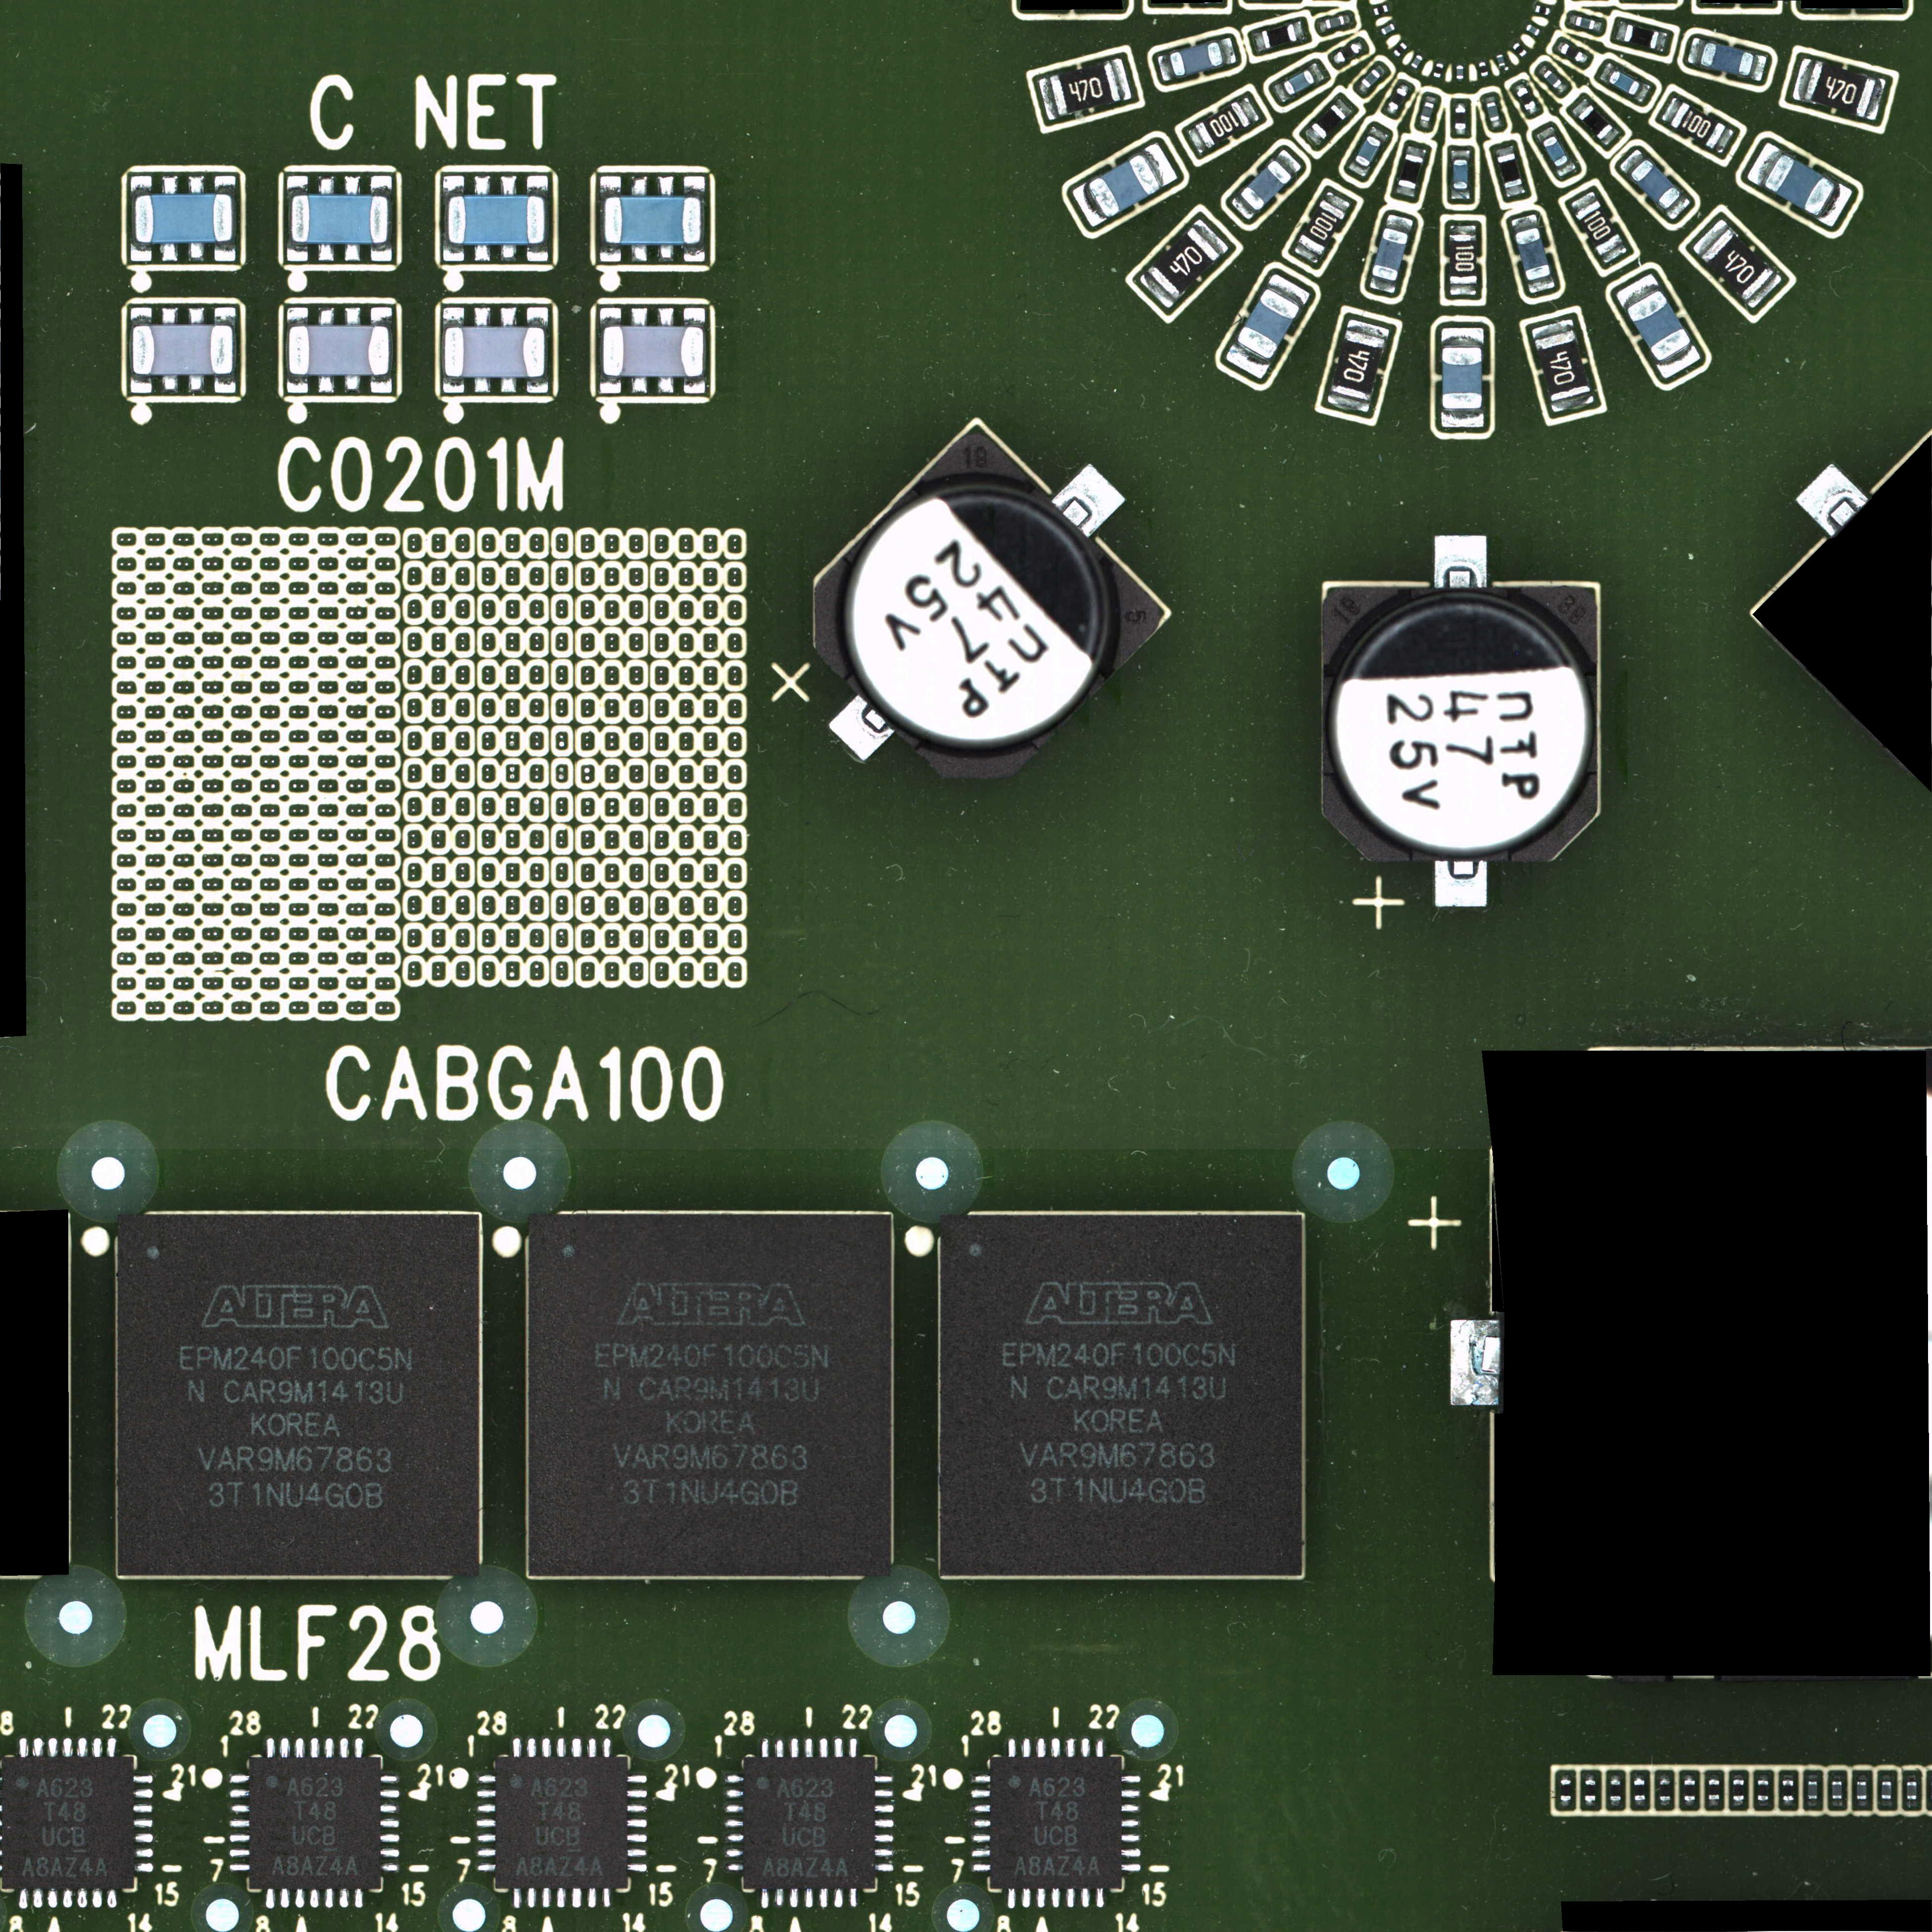Package: (777, 426, 1168, 807), (117, 1214, 483, 1575), (938, 1217, 1306, 1576), (529, 1215, 892, 1576), (1322, 587, 1603, 858), (2, 1757, 133, 1888), (495, 1757, 626, 1886), (249, 1759, 380, 1888), (745, 1759, 874, 1888), (991, 1759, 1120, 1886), (1700, 226, 1775, 301), (1760, 152, 1838, 219), (1148, 228, 1219, 301), (1086, 152, 1161, 219), (1626, 290, 1691, 364), (605, 327, 702, 375), (446, 327, 543, 375), (134, 326, 232, 373), (288, 327, 389, 373), (448, 196, 543, 244), (136, 195, 232, 242), (605, 196, 701, 244), (292, 196, 386, 244), (1237, 288, 1299, 359), (1534, 329, 1591, 403), (1805, 62, 1875, 119), (1330, 329, 1385, 402), (1051, 60, 1120, 117), (1629, 157, 1683, 211), (1240, 159, 1292, 212), (1575, 200, 1622, 257), (1196, 101, 1251, 149), (1670, 103, 1727, 149), (1442, 347, 1483, 410), (1299, 200, 1345, 255), (1371, 226, 1408, 281), (1514, 226, 1552, 280), (1169, 41, 1223, 76), (1702, 42, 1755, 76), (1449, 235, 1477, 285), (1578, 104, 1614, 142), (1311, 104, 1346, 140), (1398, 152, 1424, 189), (1541, 134, 1569, 168), (1495, 152, 1522, 188), (1353, 136, 1382, 168), (1283, 69, 1315, 96), (1624, 25, 1658, 50), (1261, 25, 1297, 48), (1610, 71, 1642, 96), (1387, 88, 1408, 111), (1338, 42, 1362, 62), (1516, 87, 1536, 110), (1560, 42, 1583, 62), (1454, 159, 1468, 189), (1361, 69, 1380, 88), (1543, 71, 1562, 88), (1419, 103, 1435, 122), (1454, 106, 1467, 127), (1575, 18, 1596, 30), (1757, 1780, 1769, 1801), (1560, 1780, 1571, 1801), (1585, 1780, 1596, 1801), (1610, 1780, 1621, 1801), (1635, 1780, 1645, 1801), (1660, 1780, 1670, 1801), (1684, 1780, 1695, 1801), (1709, 1780, 1720, 1801), (1734, 1780, 1744, 1801), (1783, 1780, 1794, 1801), (1327, 16, 1345, 28), (1486, 103, 1499, 120), (1833, 1782, 1842, 1801), (1808, 1782, 1817, 1799), (1858, 1782, 1867, 1799), (1882, 1782, 1891, 1799), (1907, 1782, 1916, 1799), (1384, 25, 1392, 34), (1396, 46, 1405, 55), (1529, 25, 1537, 34), (1378, 5, 1385, 14), (1412, 58, 1421, 65), (1433, 67, 1442, 74), (1479, 65, 1488, 73), (1539, 5, 1546, 14), (1456, 69, 1463, 76), (1497, 57, 1504, 64), (1516, 46, 1523, 53)
Solder: (1053, 464, 1125, 538), (1794, 464, 1868, 536), (1449, 1318, 1500, 1407), (828, 694, 893, 761), (1433, 536, 1488, 587), (1435, 860, 1488, 908), (1143, 143, 1178, 188), (1226, 343, 1270, 379), (1658, 345, 1702, 380), (1615, 274, 1660, 310), (1072, 182, 1106, 228), (1746, 143, 1782, 186), (1267, 272, 1311, 306), (1821, 184, 1852, 226), (1192, 219, 1228, 257), (1693, 218, 1729, 255), (1139, 272, 1175, 308), (1748, 272, 1782, 308), (1792, 58, 1815, 101), (1111, 58, 1132, 103), (1346, 318, 1391, 340), (1865, 78, 1886, 122), (1039, 78, 1060, 120), (1530, 318, 1573, 340), (1327, 393, 1371, 412), (1552, 395, 1596, 414), (1276, 149, 1302, 177), (1440, 410, 1484, 426), (1442, 327, 1484, 343), (1619, 149, 1645, 173), (1237, 96, 1260, 124), (1231, 195, 1256, 219), (1187, 127, 1208, 156), (1599, 242, 1628, 264), (1527, 274, 1557, 294), (1667, 195, 1690, 219), (1293, 242, 1320, 264), (1385, 214, 1414, 234), (1686, 37, 1706, 65), (1571, 191, 1596, 212), (1661, 97, 1683, 122), (1157, 53, 1177, 80), (1511, 214, 1537, 234), (1325, 193, 1350, 212), (1714, 127, 1734, 152), (1219, 37, 1237, 64), (1369, 276, 1396, 294), (1750, 55, 1767, 81), (1304, 127, 1323, 147), (287, 375, 308, 393), (287, 308, 308, 326), (372, 375, 393, 393), (372, 308, 393, 326), (131, 308, 152, 326), (214, 306, 235, 324), (214, 242, 235, 260), (131, 175, 152, 193), (370, 244, 391, 262), (287, 244, 308, 262), (287, 177, 308, 195), (370, 177, 391, 195), (442, 244, 464, 262), (442, 177, 464, 195), (527, 177, 548, 195), (685, 177, 706, 195), (600, 177, 621, 195), (683, 244, 704, 262), (685, 308, 706, 326), (444, 308, 465, 326), (527, 308, 548, 326), (1368, 126, 1389, 143), (188, 373, 205, 393), (131, 375, 150, 393), (188, 306, 205, 326), (216, 175, 235, 193), (527, 244, 547, 262), (602, 308, 621, 326), (444, 377, 464, 395), (1571, 99, 1591, 117), (1601, 127, 1619, 147), (1599, 62, 1617, 81), (214, 375, 235, 391), (131, 244, 152, 260), (600, 246, 621, 262), (683, 377, 704, 393), (600, 377, 621, 393), (527, 377, 548, 393), (1274, 81, 1290, 103), (188, 242, 205, 260), (188, 175, 205, 193), (343, 244, 361, 262), (343, 177, 361, 195), (1334, 99, 1352, 117), (501, 308, 517, 327), (501, 375, 517, 395), (1307, 64, 1323, 83), (1557, 161, 1576, 177), (1635, 83, 1651, 103), (1449, 285, 1477, 295), (345, 308, 361, 326), (318, 308, 334, 326), (345, 375, 361, 393), (318, 375, 334, 393), (501, 244, 517, 262), (474, 244, 490, 262), (474, 177, 490, 195), (501, 177, 517, 195), (658, 177, 674, 195), (658, 244, 674, 262), (658, 375, 674, 393), (658, 308, 674, 326), (1350, 161, 1368, 177), (1253, 34, 1267, 53), (1292, 21, 1306, 41), (1536, 127, 1555, 142), (1451, 225, 1476, 235), (1493, 145, 1514, 157), (1504, 184, 1525, 196), (474, 310, 490, 326), (474, 377, 490, 393), (163, 242, 177, 260), (163, 175, 177, 193), (318, 244, 333, 262), (318, 177, 333, 195), (632, 177, 646, 195), (632, 244, 646, 262), (1396, 186, 1415, 198), (1407, 145, 1426, 157), (1615, 21, 1628, 41), (1654, 32, 1667, 51), (76, 1737, 88, 1757), (62, 1737, 74, 1757), (46, 1737, 58, 1757), (32, 1737, 44, 1757), (106, 1890, 119, 1909), (92, 1890, 104, 1909), (18, 1890, 30, 1909), (541, 1888, 552, 1909), (324, 1890, 334, 1911), (324, 1737, 334, 1759), (228, 1789, 249, 1799), (571, 1888, 582, 1909), (294, 1737, 304, 1759), (338, 1890, 349, 1911), (789, 1888, 800, 1909), (280, 1890, 290, 1911), (280, 1737, 290, 1759), (571, 1737, 582, 1759), (1079, 1888, 1090, 1909), (1079, 1737, 1090, 1759), (803, 1737, 814, 1759), (163, 375, 177, 391), (163, 308, 177, 324), (632, 377, 646, 393), (632, 310, 646, 326), (310, 1737, 320, 1759), (310, 1890, 320, 1911), (602, 1888, 612, 1909), (1093, 1888, 1104, 1909), (78, 1888, 88, 1909), (971, 1789, 989, 1801), (525, 1739, 538, 1757), (541, 1737, 552, 1757), (725, 1775, 745, 1785), (380, 1789, 400, 1799), (230, 1803, 249, 1813), (725, 1803, 745, 1813), (874, 1803, 893, 1813), (1451, 189, 1470, 200), (230, 1819, 249, 1829), (602, 1737, 612, 1757), (847, 1737, 858, 1757), (970, 1775, 989, 1785), (1093, 1737, 1104, 1757), (1122, 1831, 1141, 1842), (106, 1737, 117, 1757), (92, 1737, 103, 1757), (18, 1737, 28, 1757), (64, 1890, 74, 1909), (48, 1890, 58, 1909), (34, 1890, 44, 1909), (134, 1817, 154, 1828), (134, 1803, 154, 1813), (134, 1833, 154, 1844), (295, 1890, 304, 1913), (803, 1888, 812, 1911), (722, 1819, 745, 1828), (1007, 1888, 1016, 1911), (265, 1737, 274, 1759), (557, 1888, 566, 1909), (819, 1888, 828, 1909), (354, 1890, 363, 1911), (1051, 1888, 1060, 1909), (833, 1888, 842, 1909), (1037, 1888, 1046, 1909), (628, 1790, 649, 1799), (228, 1849, 249, 1858), (228, 1833, 249, 1842), (1023, 1888, 1031, 1909), (789, 1737, 798, 1759), (761, 1888, 770, 1909), (833, 1737, 842, 1759), (340, 1737, 349, 1759), (1065, 1737, 1074, 1759), (874, 1789, 895, 1798), (513, 1888, 522, 1909), (354, 1737, 363, 1759), (628, 1775, 649, 1783), (628, 1819, 649, 1828), (228, 1863, 249, 1872), (874, 1821, 895, 1829), (380, 1833, 402, 1842), (628, 1805, 649, 1813), (527, 1888, 536, 1909), (587, 1888, 596, 1909), (876, 1775, 893, 1785), (971, 1803, 989, 1813), (971, 1833, 989, 1844), (1122, 1773, 1139, 1783), (761, 1739, 770, 1759), (819, 1739, 828, 1759), (725, 1789, 745, 1798), (1051, 1739, 1060, 1759), (1037, 1739, 1046, 1759), (267, 1890, 276, 1909), (476, 1790, 495, 1799), (556, 1737, 564, 1757), (874, 1863, 893, 1872), (775, 1739, 784, 1759), (1122, 1789, 1141, 1798), (228, 1775, 248, 1783), (971, 1863, 991, 1872), (628, 1849, 648, 1858), (476, 1805, 495, 1813), (775, 1888, 784, 1907), (628, 1863, 648, 1872), (380, 1863, 400, 1872), (628, 1835, 648, 1844), (1122, 1849, 1141, 1858), (476, 1835, 495, 1844), (1451, 150, 1470, 159), (380, 1775, 400, 1783), (380, 1803, 400, 1812), (380, 1819, 400, 1828), (476, 1819, 495, 1828), (587, 1737, 596, 1757), (511, 1737, 520, 1757), (724, 1833, 743, 1842), (724, 1849, 743, 1858), (724, 1863, 743, 1872), (876, 1835, 895, 1844), (1007, 1737, 1016, 1757), (1023, 1737, 1031, 1757), (1122, 1803, 1141, 1812), (1122, 1819, 1141, 1828), (134, 1775, 154, 1783), (134, 1789, 154, 1798), (134, 1863, 154, 1872), (134, 1849, 154, 1858), (973, 1819, 989, 1829), (478, 1775, 495, 1783), (1067, 1888, 1074, 1909), (849, 1888, 856, 1909), (971, 1849, 991, 1856), (476, 1849, 495, 1856), (380, 1849, 400, 1856), (476, 1863, 495, 1870), (874, 1849, 893, 1856), (1122, 1865, 1141, 1872), (1357, 81, 1368, 94), (1513, 81, 1525, 92), (1557, 81, 1568, 94), (1375, 65, 1385, 76), (1385, 104, 1396, 115), (1539, 65, 1550, 76), (1527, 106, 1539, 115), (1343, 14, 1352, 25), (1332, 53, 1341, 64), (1399, 83, 1410, 92), (1426, 96, 1437, 104), (1484, 96, 1495, 104), (1318, 21, 1327, 32), (1568, 14, 1576, 25), (1419, 119, 1428, 127), (1560, 1773, 1571, 1780), (1357, 41, 1364, 51), (1491, 120, 1502, 127), (1557, 41, 1564, 51), (1594, 21, 1601, 32), (1585, 1801, 1596, 1808), (1610, 1801, 1621, 1808), (1684, 1773, 1695, 1780), (1709, 1773, 1720, 1780), (1831, 1775, 1842, 1782), (1660, 1801, 1672, 1806), (1757, 1801, 1769, 1806), (1757, 1775, 1769, 1780), (1580, 55, 1587, 64), (1808, 1799, 1817, 1806), (1858, 1799, 1867, 1806), (1882, 1799, 1891, 1806), (1907, 1799, 1916, 1806), (1454, 129, 1465, 134), (1560, 1801, 1571, 1806), (1585, 1775, 1596, 1780), (1610, 1775, 1621, 1780), (1635, 1801, 1645, 1806), (1635, 1775, 1645, 1780), (1660, 1775, 1670, 1780), (1684, 1801, 1695, 1806), (1709, 1801, 1720, 1806), (1734, 1775, 1744, 1780), (1734, 1801, 1744, 1806), (1783, 1801, 1794, 1806), (1783, 1775, 1794, 1780), (1856, 1775, 1867, 1780), (1881, 1775, 1891, 1780), (1380, 28, 1387, 35), (1399, 42, 1407, 50), (1410, 62, 1417, 69), (1520, 50, 1527, 57), (1513, 42, 1520, 50), (1525, 23, 1532, 30), (1373, 7, 1378, 16), (1808, 1775, 1817, 1780), (1833, 1801, 1842, 1806), (1907, 1775, 1916, 1780), (1384, 5, 1389, 12), (1391, 23, 1396, 30), (1394, 50, 1399, 57), (1415, 55, 1422, 60), (1437, 64, 1444, 69), (1433, 73, 1440, 78), (1534, 30, 1541, 35), (1545, 9, 1550, 16), (1456, 103, 1465, 106), (1456, 65, 1463, 69), (1456, 76, 1463, 80), (1479, 62, 1486, 65), (1481, 73, 1488, 76), (1499, 64, 1506, 67), (1536, 5, 1539, 12), (1497, 55, 1502, 58)
